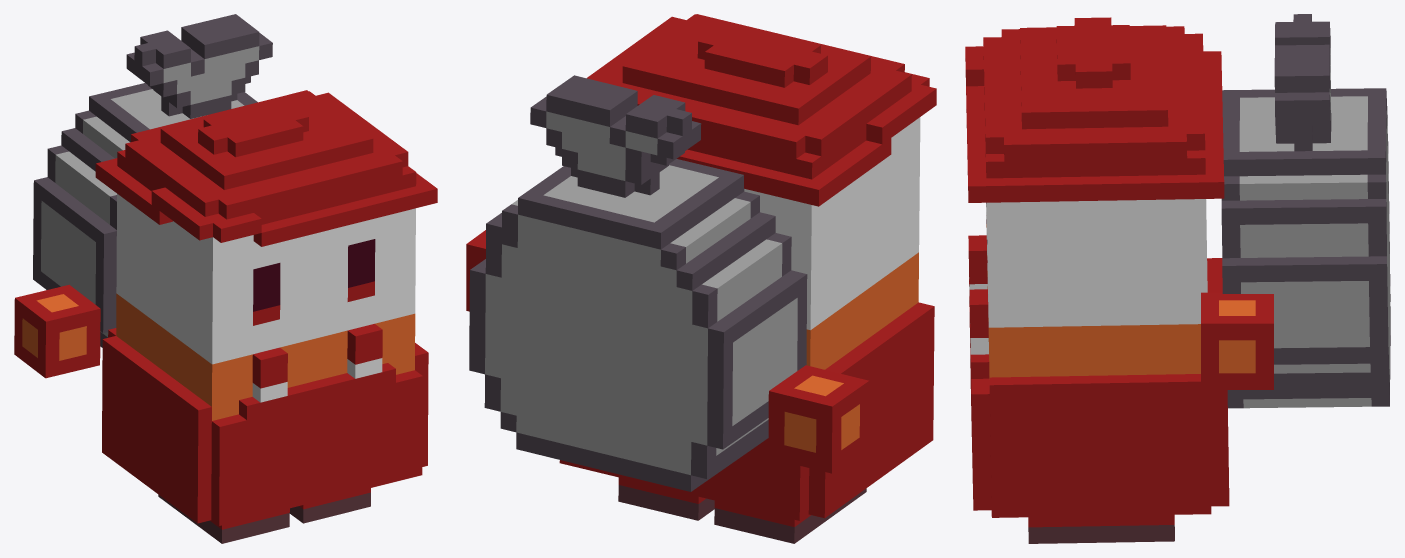
File: p4TrashDizzy.gltf
3 renders of one model, left to right at view 1: azimuth 30°, elevation 25°; view 2: azimuth 150°, elevation 25°; view 3: azimuth 270°, elevation 25°, orthographic. The views are drawn at different scales.
Visible parts, largest first — view 1: Yup2Zup.001; view 2: Yup2Zup.001; view 3: Yup2Zup.001.
Boxes of the visible parts, x1,y1,x2,y2 form: Yup2Zup.001: [14, 14, 437, 543]; Yup2Zup.001: [466, 14, 936, 543]; Yup2Zup.001: [965, 14, 1390, 543].
Bounding box in the file's own units: 2.39 × 2.81 × 2.33.
Materials: 4 (4 with a texture image).
